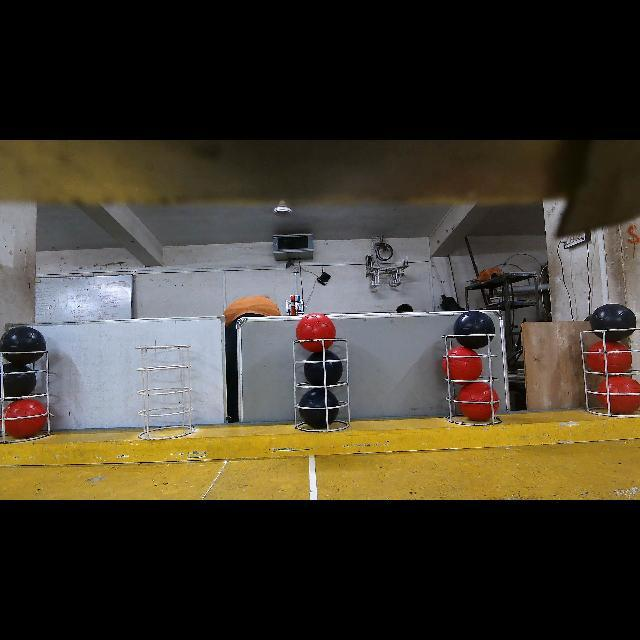P: (0, 326, 46, 364), (590, 304, 636, 341), (299, 388, 339, 429), (454, 312, 494, 348), (0, 363, 36, 402), (304, 351, 343, 386)
R: (585, 340, 631, 377), (456, 382, 499, 421), (296, 313, 336, 353), (597, 376, 640, 413), (5, 399, 45, 438), (443, 346, 483, 385)
S: (130, 348, 196, 438), (443, 334, 501, 431), (288, 335, 346, 431), (578, 323, 634, 417), (0, 348, 56, 440)
